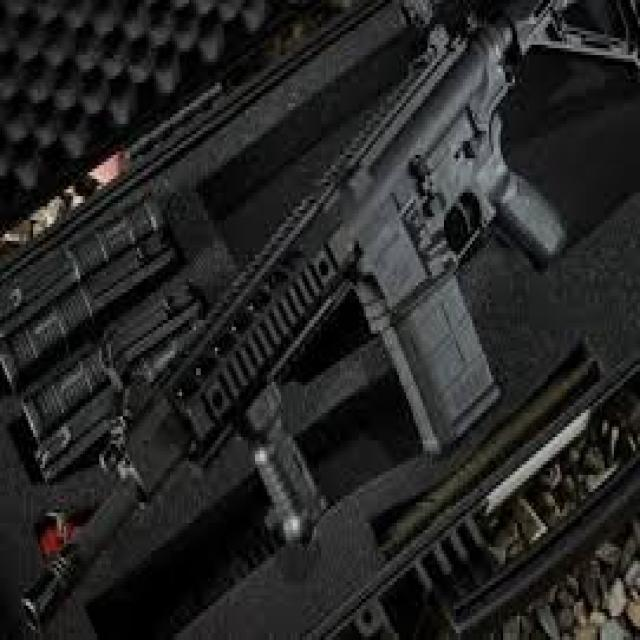Gun: (2, 0, 640, 578)
